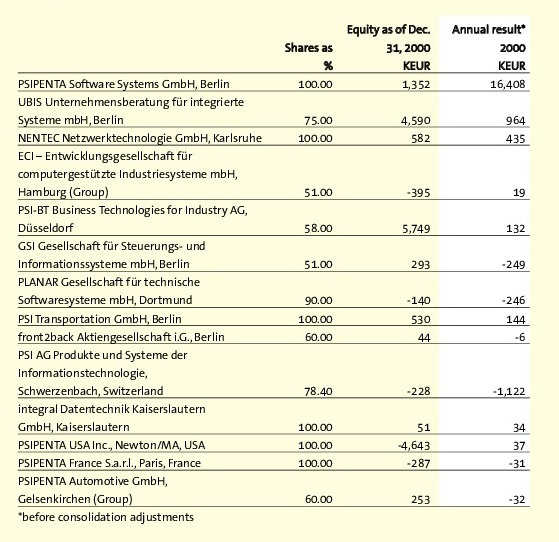table: (0, 0, 559, 542)
